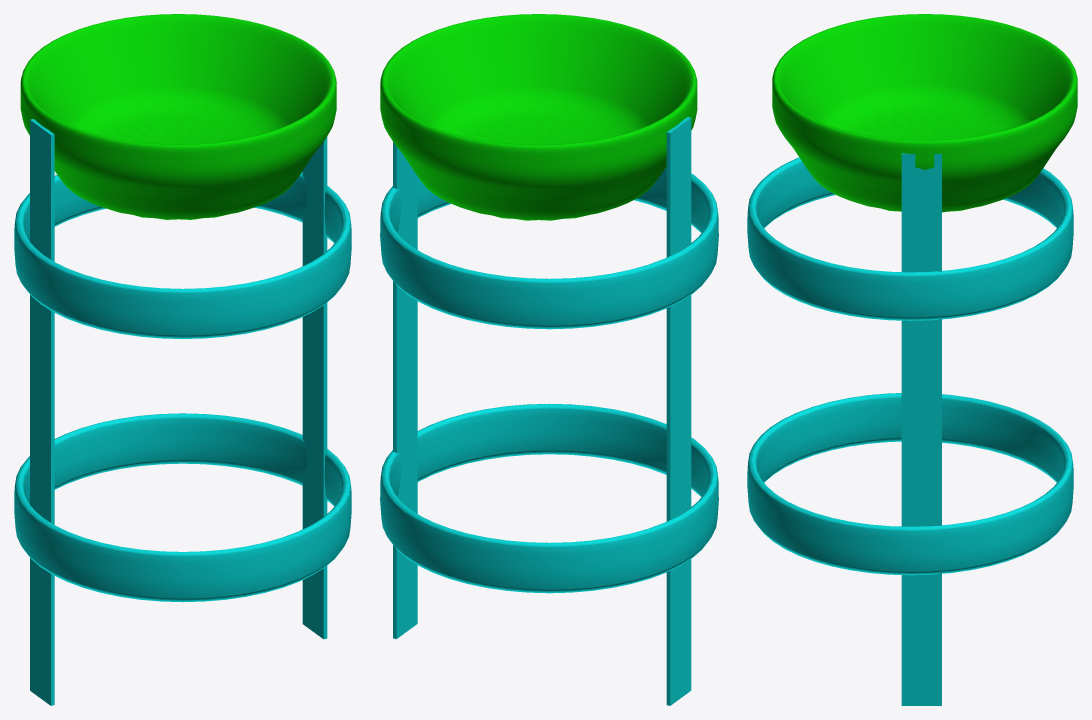
The model's file is AOS_PropB.fbx.
3 views of the same model, side by side, from view 1: azimuth 30°, elevation 25°; view 2: azimuth 150°, elevation 25°; view 3: azimuth 270°, elevation 25° (orthographic). The views are drawn at different scales.
Visible parts, largest first — view 1: pCube3; view 2: pCube3; view 3: pCube3.
Part boxes in pixels (x1,y1,x2,y2): pCube3: (14,14,351,705); pCube3: (380,14,718,705); pCube3: (747,14,1077,705).
Size of the model in its own units: 0.8039 by 1.53 by 0.8135.
